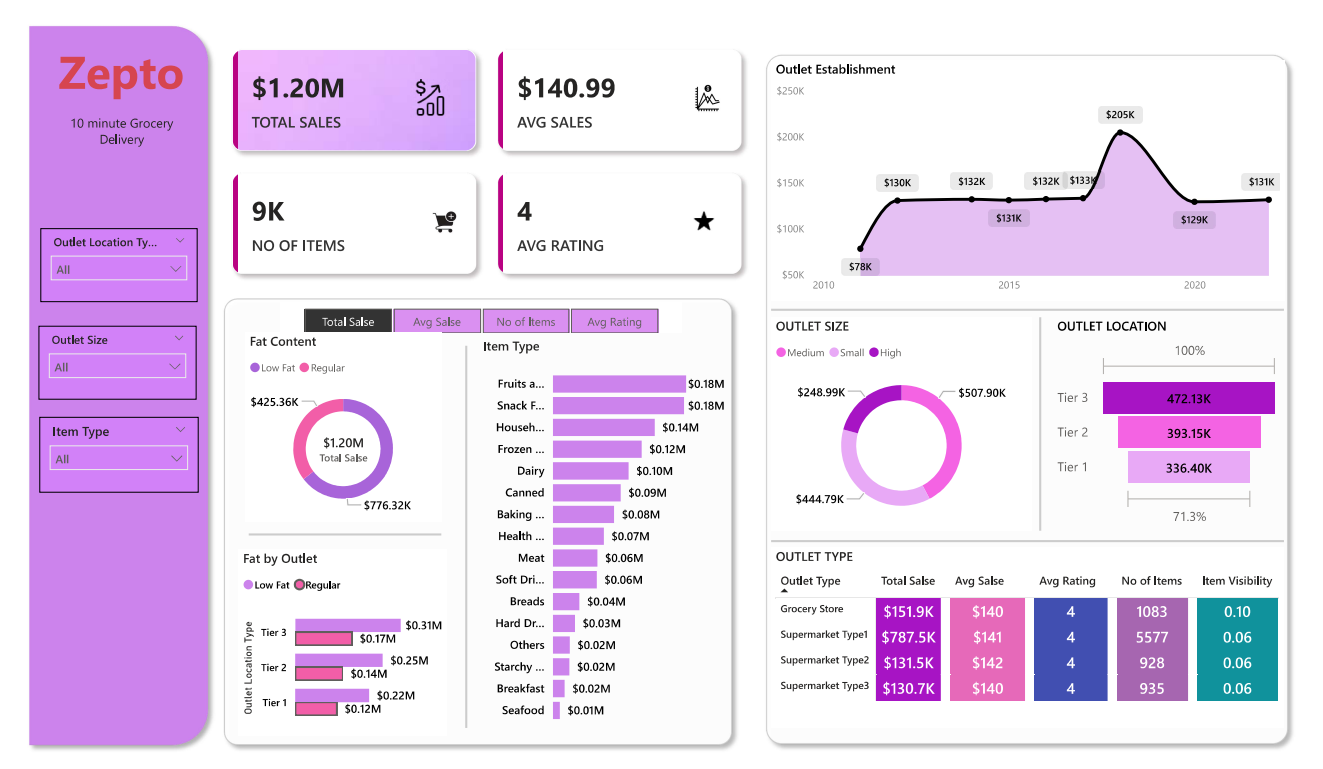

The dashboard page shown, as its layout file describes it:
{"tool":"powerbi","page":{"name":"Page 1","canvas":[1400,800],"ordinal":0},"visuals":[{"type":"shape","box":[26.5,24.7,205,775.9],"z":0},{"type":"textbox","box":[264,612,206,162],"z":1000},{"type":"textbox","box":[51.7,43.3,161.7,78.3],"z":2000},{"type":"textbox","box":[52,122,162,56],"z":3000},{"type":"cardVisual","fields":{"Data":["Zepto-Grocery-Data.Total Salse","Zepto-Grocery-Data.Avg Salse","Zepto-Grocery-Data.No of Items","Zepto-Grocery-Data.Avg Rating"]},"box":[233.3,42.4,570.9,270.4],"z":4000},{"type":"shape","box":[231.5,312.8,553.2,487.8],"z":5000},{"type":"slicer","fields":{"Values":["metrics.metrics"]},"box":[300.4,325.2,422.4,31.8],"z":6000},{"type":"donutChart","title":" Fat Content","fields":{"Y":["Zepto-Grocery-Data.Total Salse"],"Category":["Zepto-Grocery-Data.Item Fat Content"]},"box":[263.3,357,206.8,199.7],"z":7000},{"type":"cardVisual","fields":{"Data":["Zepto-Grocery-Data.Total Salse"]},"box":[323.8,446.2,86.2,58.8],"z":8000},{"type":"clusteredBarChart","title":"Fat by Outlet","fields":{"Y":["Zepto-Grocery-Data.Total Salse"],"Category":["Zepto-Grocery-Data.Outlet Location Type"],"Series":["Zepto-Grocery-Data.Item Fat Content"]},"box":[256,586,220,196],"z":9000},{"type":"shape","box":[266.9,562,203.2,15.9],"z":10000},{"type":"shape","box":[484.3,371.1,24.7,403],"z":11000},{"type":"barChart","title":"Item Type","fields":{"Y":["Zepto-Grocery-Data.Total Salse"],"Category":["Zepto-Grocery-Data.Item Type"]},"box":[509,362.3,265.1,417.1],"z":12000},{"type":"shape","box":[804,56,568,744],"z":13000},{"type":"lineChart","title":"Outlet Establishment ","fields":{"Category":["Zepto-Grocery-Data.Outlet Establishment Year"],"Y":["Zepto-Grocery-Data.Total Salse"]},"box":[818,70,542,254],"z":14000},{"type":"shape","box":[818.3,569.1,540.8,15.9],"z":15000},{"type":"donutChart","title":" OUTLET SIZE","fields":{"Y":["Zepto-Grocery-Data.Total Salse"],"Category":["Zepto-Grocery-Data.Outlet Size"]},"box":[818.3,341.1,275,225],"z":16000},{"type":"shape","box":[1088.7,341.1,26.5,224.5],"z":17000},{"type":"funnel","title":"OUTLET LOCATION","fields":{"Category":["Zepto-Grocery-Data.Outlet Location Type"],"Y":["Sum(Zepto-Grocery-Data.Sales)"]},"box":[1115.2,341.1,243.9,224.5],"z":18000},{"type":"shape","box":[818.3,325.2,540.8,15.9],"z":19000},{"type":"pivotTable","title":"OUTLET TYPE","fields":{"Rows":["Zepto-Grocery-Data.Outlet Type"],"Values":["Zepto-Grocery-Data.Total Salse","Zepto-Grocery-Data.Avg Salse","Zepto-Grocery-Data.Avg Rating","Zepto-Grocery-Data.No of Items","Avg(Zepto-Grocery-Data.Item Visibility)"]},"box":[818,584,540,190],"z":20000},{"type":"slicer","fields":{"Values":["Zepto-Grocery-Data.Outlet Location Type"]},"box":[46.7,246.7,166.7,78.3],"z":21000},{"type":"slicer","fields":{"Values":["Zepto-Grocery-Data.Outlet Size"]},"box":[45,350,166.7,78.3],"z":22000},{"type":"slicer","fields":{"Values":["Zepto-Grocery-Data.Item Type"]},"box":[46,446,168,80],"z":22001}]}

Visuals, with their boxes in screenshot pixels (x1, y1, x2, y2), scaled from the page's 1400x800 canvas onto the 1323x769 screenshot:
shape: <region>25, 24, 219, 768</region>
textbox: <region>249, 588, 444, 744</region>
textbox: <region>49, 42, 202, 117</region>
textbox: <region>49, 117, 202, 171</region>
cardVisual - Zepto-Grocery-Data.Total Salse x Zepto-Grocery-Data.Avg Salse: <region>220, 41, 760, 301</region>
shape: <region>219, 301, 742, 768</region>
slicer - metrics.metrics: <region>284, 313, 683, 343</region>
" Fat Content" donutChart: <region>249, 343, 444, 535</region>
cardVisual - Zepto-Grocery-Data.Total Salse: <region>306, 429, 387, 485</region>
"Fat by Outlet" clusteredBarChart: <region>242, 563, 450, 752</region>
shape: <region>252, 540, 444, 556</region>
shape: <region>458, 357, 481, 744</region>
"Item Type" barChart: <region>481, 348, 732, 749</region>
shape: <region>760, 54, 1297, 768</region>
"Outlet Establishment " lineChart: <region>773, 67, 1285, 311</region>
shape: <region>773, 547, 1284, 562</region>
" OUTLET SIZE" donutChart: <region>773, 328, 1033, 544</region>
shape: <region>1029, 328, 1054, 544</region>
"OUTLET LOCATION" funnel: <region>1054, 328, 1284, 544</region>
shape: <region>773, 313, 1284, 328</region>
"OUTLET TYPE" pivotTable: <region>773, 561, 1283, 744</region>
slicer - Zepto-Grocery-Data.Outlet Location Type: <region>44, 237, 202, 312</region>
slicer - Zepto-Grocery-Data.Outlet Size: <region>43, 336, 200, 412</region>
slicer - Zepto-Grocery-Data.Item Type: <region>43, 429, 202, 506</region>
